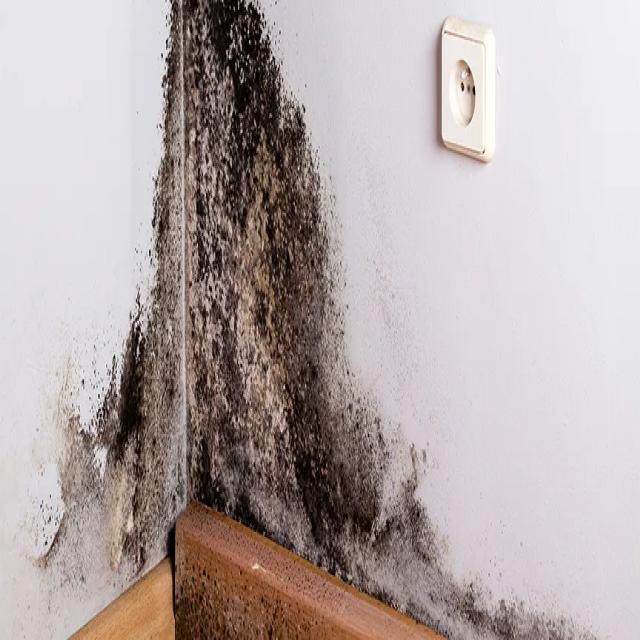stain_mould: (18, 0, 588, 639)
